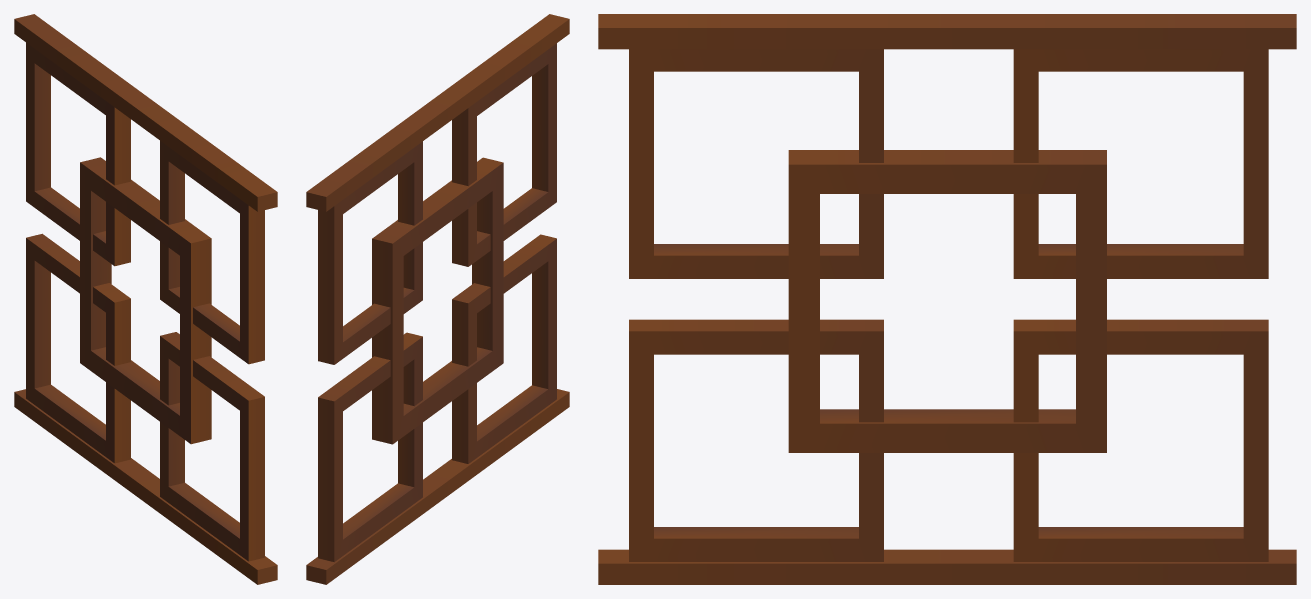
File: B01_Fence.fbx
3 renders of one model, left to right at view 1: azimuth 30°, elevation 25°; view 2: azimuth 150°, elevation 25°; view 3: azimuth 270°, elevation 25°, orthographic. The views are drawn at different scales.
Visible parts, largest first — view 1: B01_Fence; view 2: B01_Fence; view 3: B01_Fence.
Boxes of the visible parts, left/top/right/bottom form: B01_Fence: left=14, top=14, right=277, bottom=584; B01_Fence: left=306, top=14, right=569, bottom=584; B01_Fence: left=598, top=14, right=1296, bottom=584.
Bounding box in the file's own units: 6.54 × 118 × 134.
